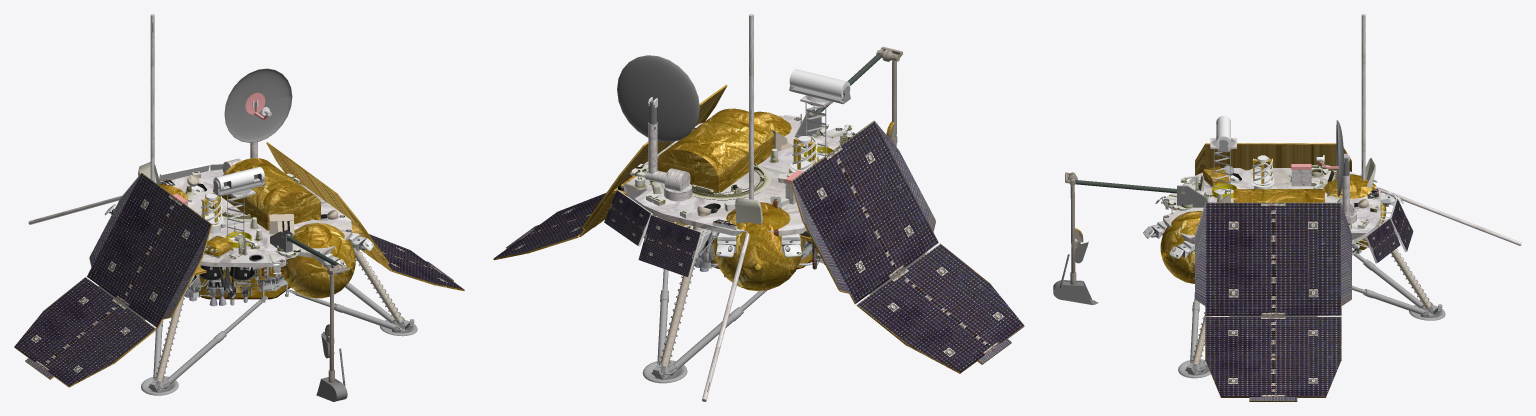
3 views of the same model, side by side, from view 1: azimuth 30°, elevation 25°; view 2: azimuth 150°, elevation 25°; view 3: azimuth 270°, elevation 25° (orthographic). The views are drawn at different scales.
Parts seen in each view (by area): view 1: deck, Cube_2_5, Cube_7, dish5_1_2, Cylinder_5_2, leg_b_1, leg_b_2, Cube_2_4, Cube_6, Cylinder_1_6, Cylinder_1_9, Cylinder_4 (+4 smaller); view 2: Cube_2_5, deck, Cube_7, Cylinder_5_2, dish5_1, leg_b, Cube_10, Cube_6, Cube_2_4, Cube_9, Cylinder_1_9, Cylinder_3_3 (+4 smaller); view 3: Cube_2_4, Cube_6, deck, Cube_2_5, leg_b, Cylinder_5_2, leg_b_2, Cube_9, Cylinder_1_6, Cylinder_4, Cylinder_3_3, Cube_10 (+3 smaller).
Part boxes in pixels (left/top/right/bottom): deck: left=104, top=162, right=374, bottom=306; Cube_2_5: left=87, top=173, right=212, bottom=328; Cube_7: left=14, top=277, right=156, bottom=387; dish5_1_2: left=225, top=69, right=291, bottom=141; Cylinder_5_2: left=221, top=158, right=320, bottom=230; leg_b_1: left=141, top=289, right=267, bottom=395; leg_b_2: left=289, top=210, right=417, bottom=336; Cube_2_4: left=266, top=142, right=391, bottom=271; Cube_6: left=369, top=234, right=464, bottom=290; Cylinder_1_6: left=150, top=14, right=154, bottom=181; Cylinder_1_9: left=213, top=166, right=264, bottom=191; Cylinder_4: left=316, top=377, right=347, bottom=401; Cube_2_5: left=790, top=120, right=938, bottom=303; deck: left=618, top=111, right=855, bottom=291; Cube_7: left=856, top=243, right=1024, bottom=373; Cylinder_5_2: left=657, top=108, right=774, bottom=193; dish5_1: left=617, top=55, right=698, bottom=142; leg_b: left=642, top=206, right=766, bottom=383; Cube_10: left=638, top=215, right=701, bottom=277; Cube_6: left=493, top=193, right=605, bottom=260; Cube_2_4: left=579, top=84, right=727, bottom=236; Cube_9: left=604, top=190, right=652, bottom=246; Cylinder_1_9: left=789, top=69, right=850, bottom=98; Cylinder_3_3: left=702, top=232, right=749, bottom=401; Cube_2_4: left=1195, top=202, right=1351, bottom=316; Cube_6: left=1205, top=316, right=1341, bottom=401; deck: left=1143, top=158, right=1403, bottom=283; Cube_2_5: left=1195, top=143, right=1351, bottom=175; leg_b: left=1352, top=198, right=1445, bottom=320; Cylinder_5_2: left=1233, top=189, right=1324, bottom=202; leg_b_2: left=1178, top=293, right=1211, bottom=378; Cube_9: left=1365, top=218, right=1400, bottom=263; Cylinder_1_6: left=1361, top=14, right=1365, bottom=180; Cylinder_4: left=1053, top=280, right=1098, bottom=304; Cylinder_3_3: left=1376, top=186, right=1521, bottom=245; Cube_10: left=1390, top=198, right=1413, bottom=252.
Bounding box in the file's own units: 400 × 277 × 415.
Materials: 42 (21 with a texture image).
